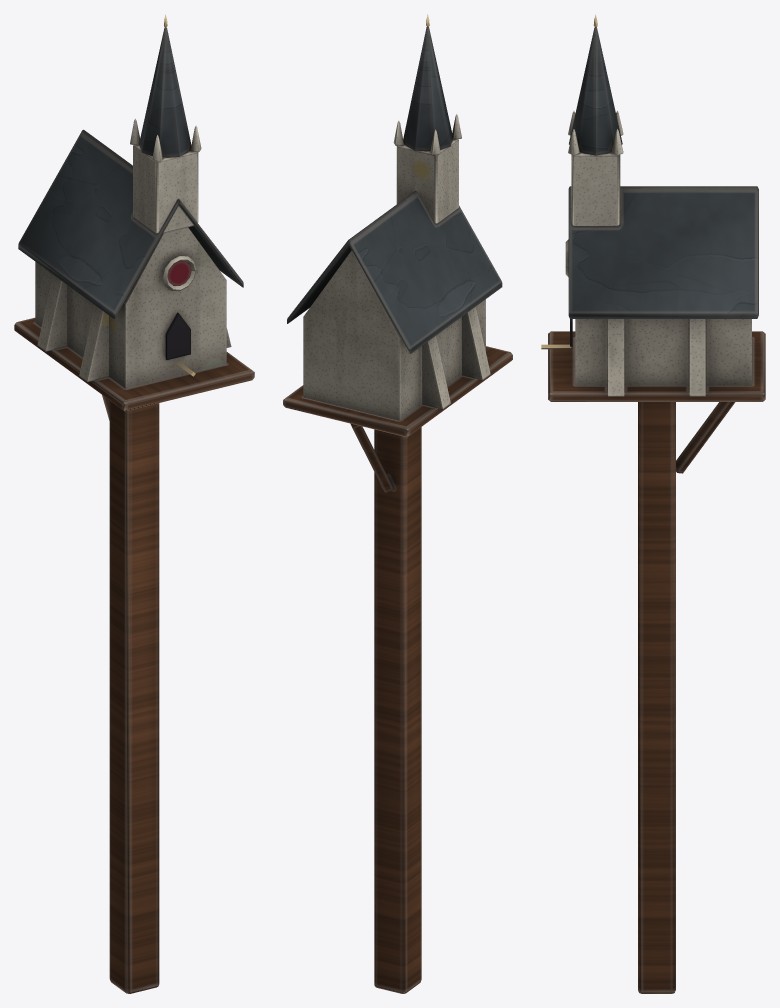
File: Birdhouse.fbx
The picture shows the model from 3 angles, left to right: view 1: azimuth 30°, elevation 25°; view 2: azimuth 150°, elevation 25°; view 3: azimuth 270°, elevation 25°; orthographic projection. The views are drawn at different scales.
Parts seen in each view (by area): view 1: Birdhouse; view 2: Birdhouse; view 3: Birdhouse.
Part boxes in pixels (x1,y1,x2,y2): Birdhouse: (14,14,254,993); Birdhouse: (283,14,512,993); Birdhouse: (541,14,765,993).
Bounding box in the file's own units: 120 × 790 × 165.
